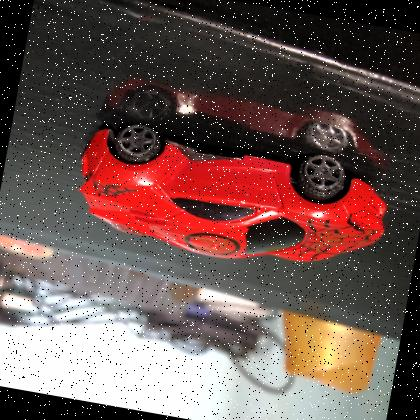Car: (79, 121, 388, 262)
